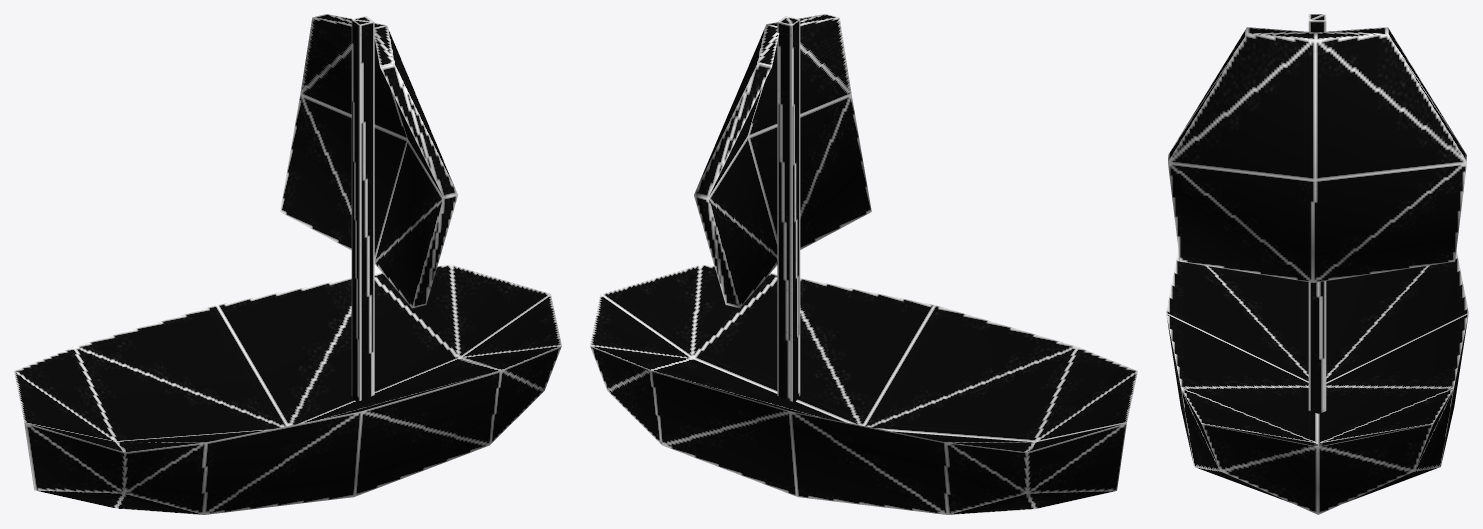
Rendered from boat.dae.
The picture shows the model from 3 angles, left to right: view 1: azimuth 30°, elevation 25°; view 2: azimuth 150°, elevation 25°; view 3: azimuth 270°, elevation 25°; orthographic projection. The views are drawn at different scales.
Visible parts, largest first — view 1: polySurface1; view 2: polySurface1; view 3: polySurface1.
Part boxes in pixels (x1,y1,x2,y2): polySurface1: [14, 14, 561, 514]; polySurface1: [590, 14, 1137, 514]; polySurface1: [1166, 14, 1468, 514].
Bounding box in the file's own units: 36.96 × 29.52 × 17.63.
